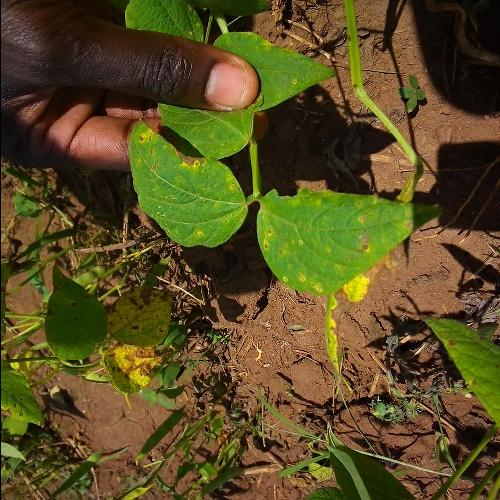hawar: (343, 210, 383, 260), (170, 144, 212, 173)
mozaik: (131, 124, 240, 240), (262, 203, 408, 269)
